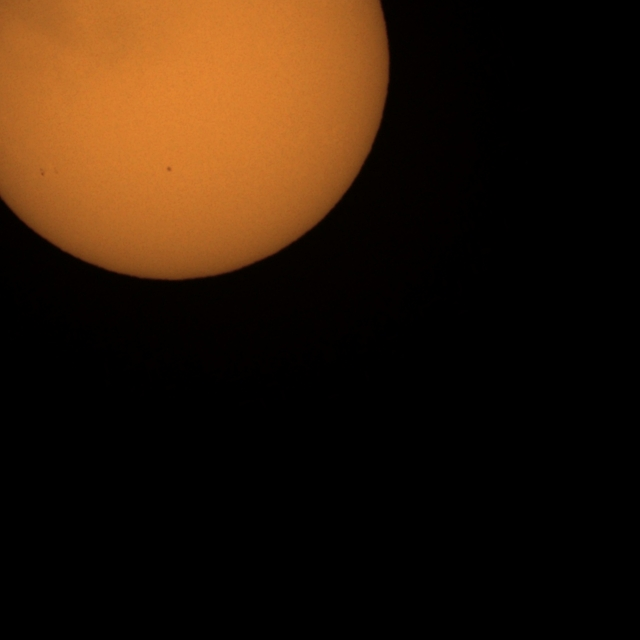sunspot: (39, 167, 46, 177), (166, 165, 173, 173), (54, 169, 59, 176)
